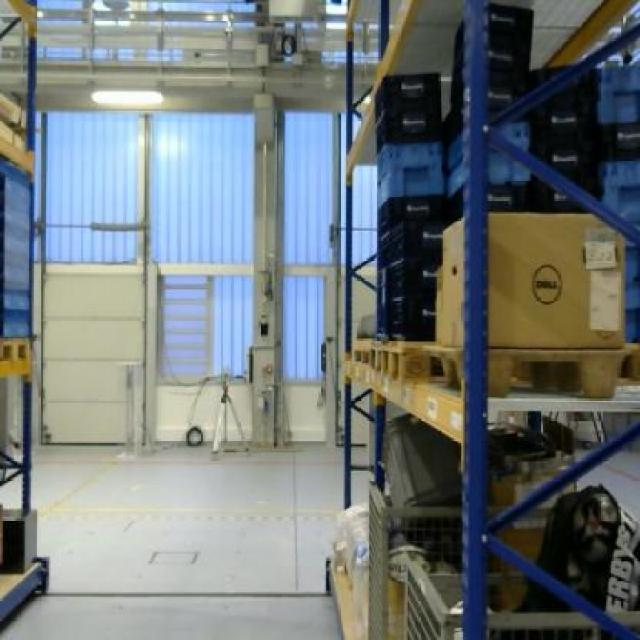box: (437, 211, 628, 351)
